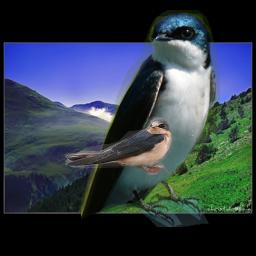Swallow: (81, 10, 220, 227), (65, 116, 173, 175)
